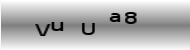8: (124, 11, 138, 25)
U: (81, 22, 96, 36)
V: (34, 21, 51, 38)
a: (108, 12, 121, 23)
u: (50, 20, 65, 32)
